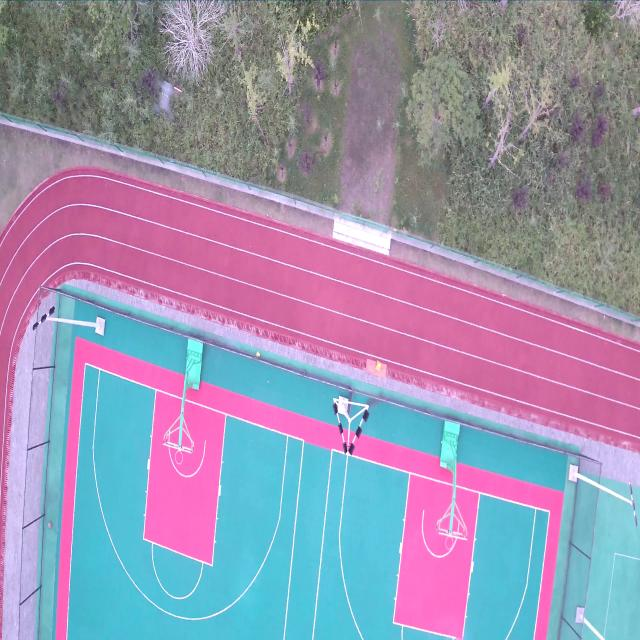UAV: (151, 77, 183, 123)
